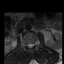CCS_normal: (29, 42, 31, 50)
LFS_normal: (33, 41, 35, 47)
LLS_normal: (31, 41, 34, 49)
RFS_normal: (24, 41, 27, 48)
RLS_normal: (27, 41, 29, 49)
